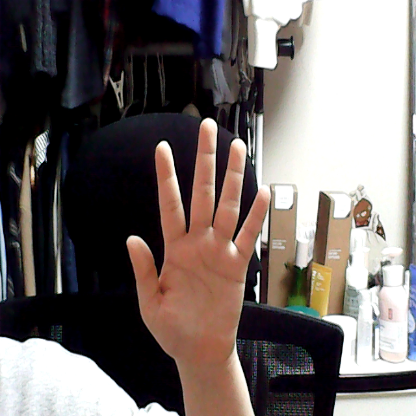Finger_5: (118, 109, 286, 379)
